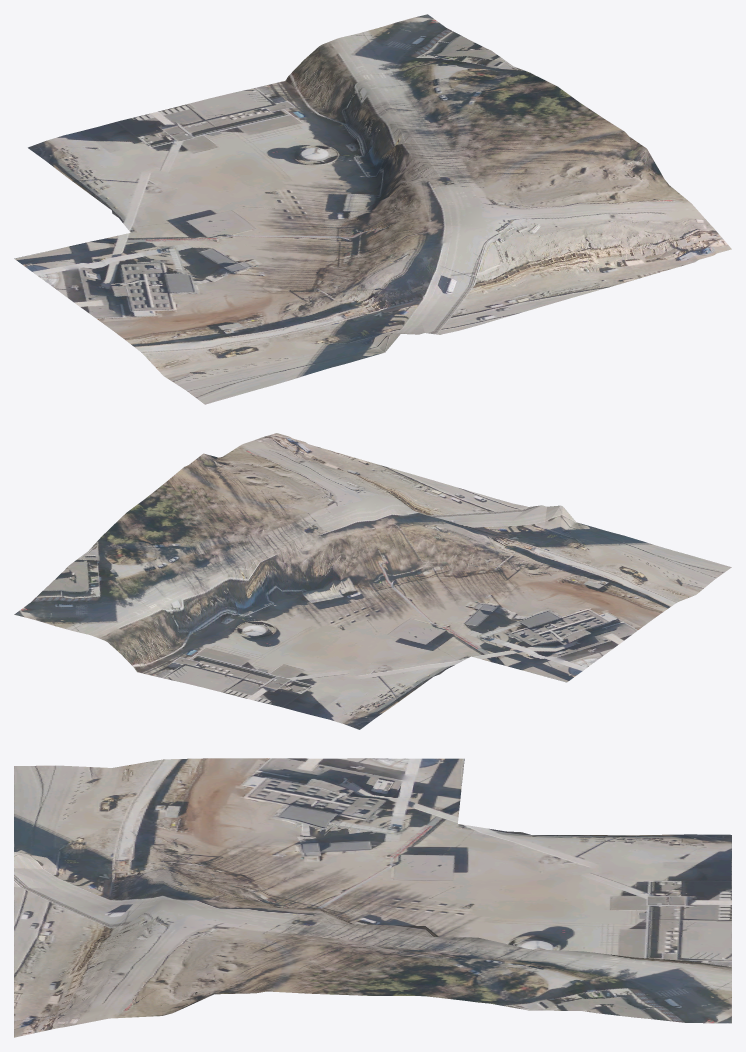
File: CM_Terrain_24488001_6822046.fbx
3 renders of one model, top to bottom at view 1: azimuth 30°, elevation 25°; view 2: azimuth 150°, elevation 25°; view 3: azimuth 270°, elevation 25°, orthographic. The views are drawn at different scales.
Visible parts, largest first — view 1: CM_Terrain_24488001_6822046_LOD0; view 2: CM_Terrain_24488001_6822046_LOD0; view 3: CM_Terrain_24488001_6822046_LOD0.
Part boxes in pixels (x1,y1,x2,y2): CM_Terrain_24488001_6822046_LOD0: (14,14,731,404); CM_Terrain_24488001_6822046_LOD0: (14,433,731,729); CM_Terrain_24488001_6822046_LOD0: (14,758,731,1037).
Size of what is drawn, in the model's own units: 205 by 25.16 by 205.
